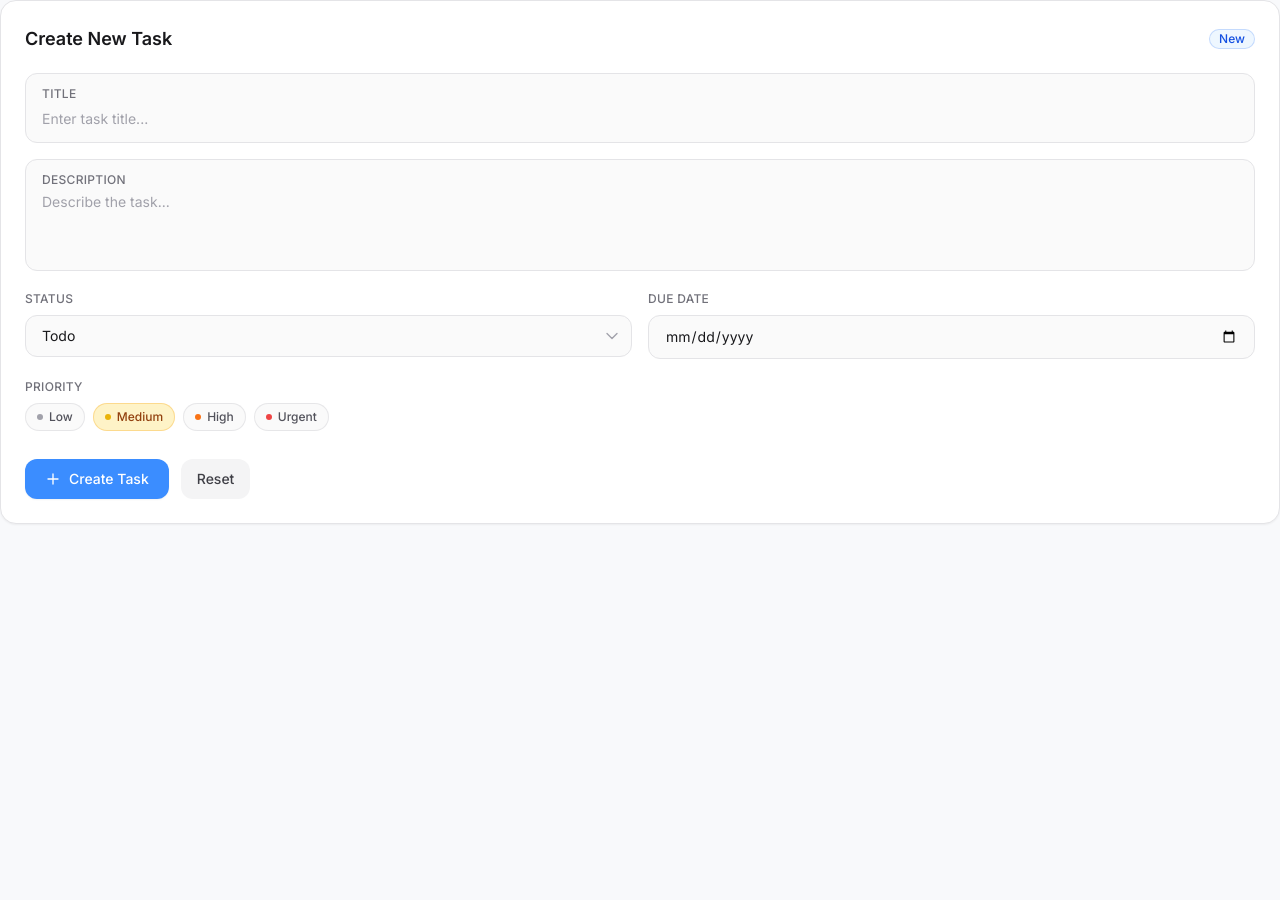
Test: TaskForm Component › shows error when title is too short
Type "A" into the field labelled "Title" at (640, 119), box [42,109,1238,129]
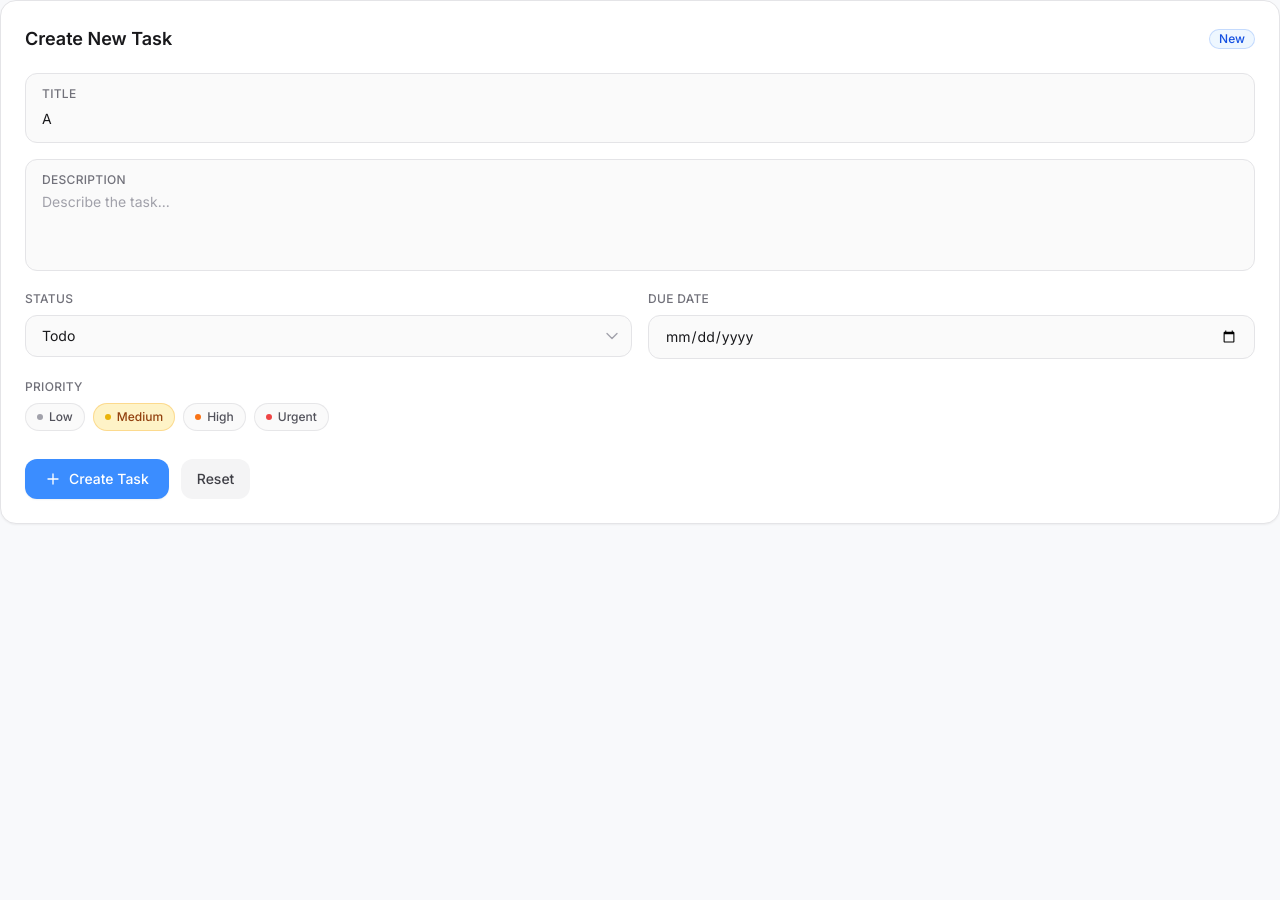
Leave the field labelled "Title", box [42,109,1238,129]
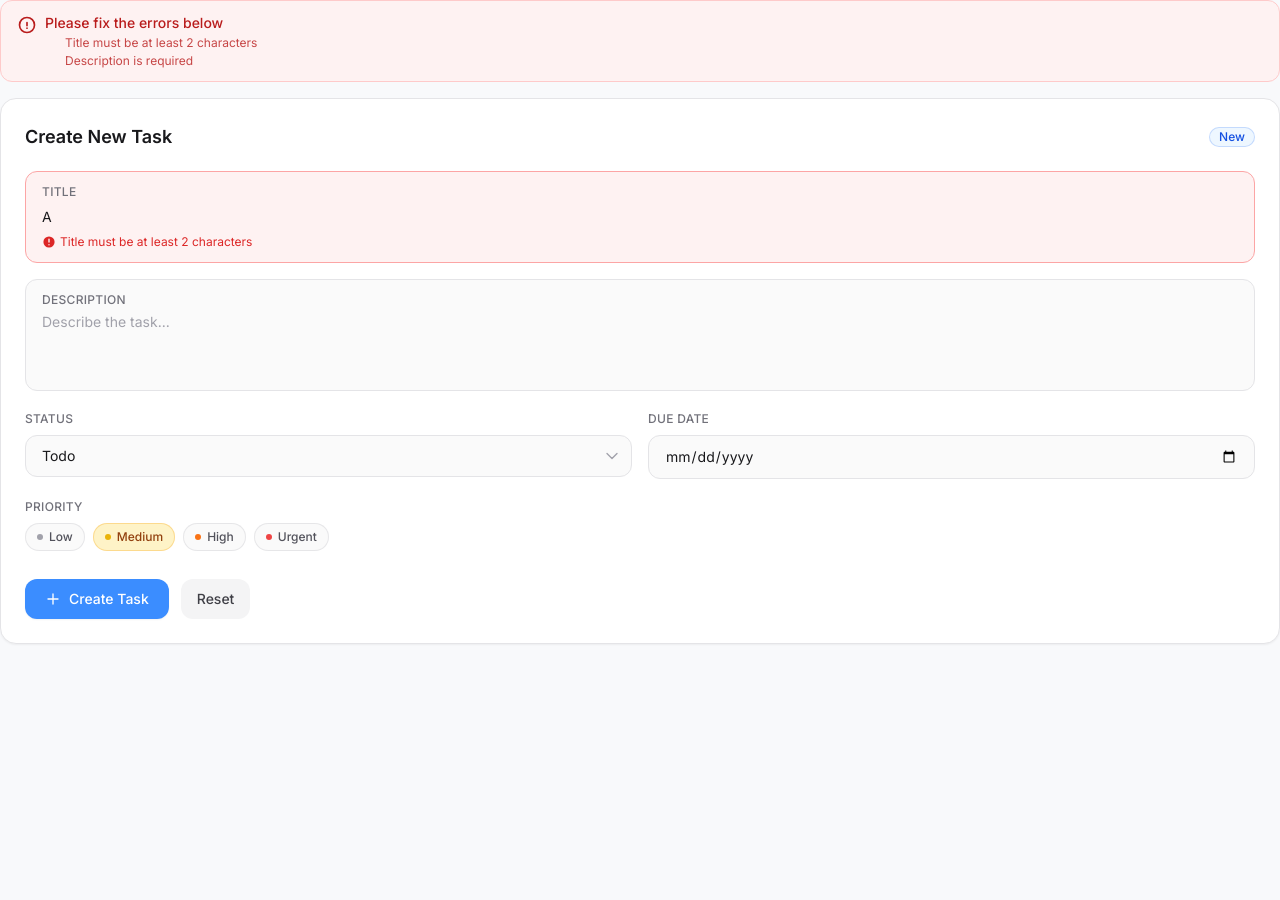
Expected: the text "Title must be at least 2 characters" is shown, [65,35,257,51]
